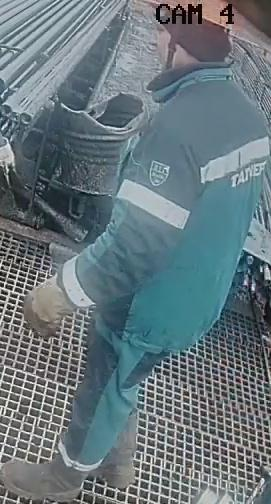gloves: (22, 272, 76, 338)
helmet: (147, 0, 234, 35)
vest: (78, 64, 270, 354)
